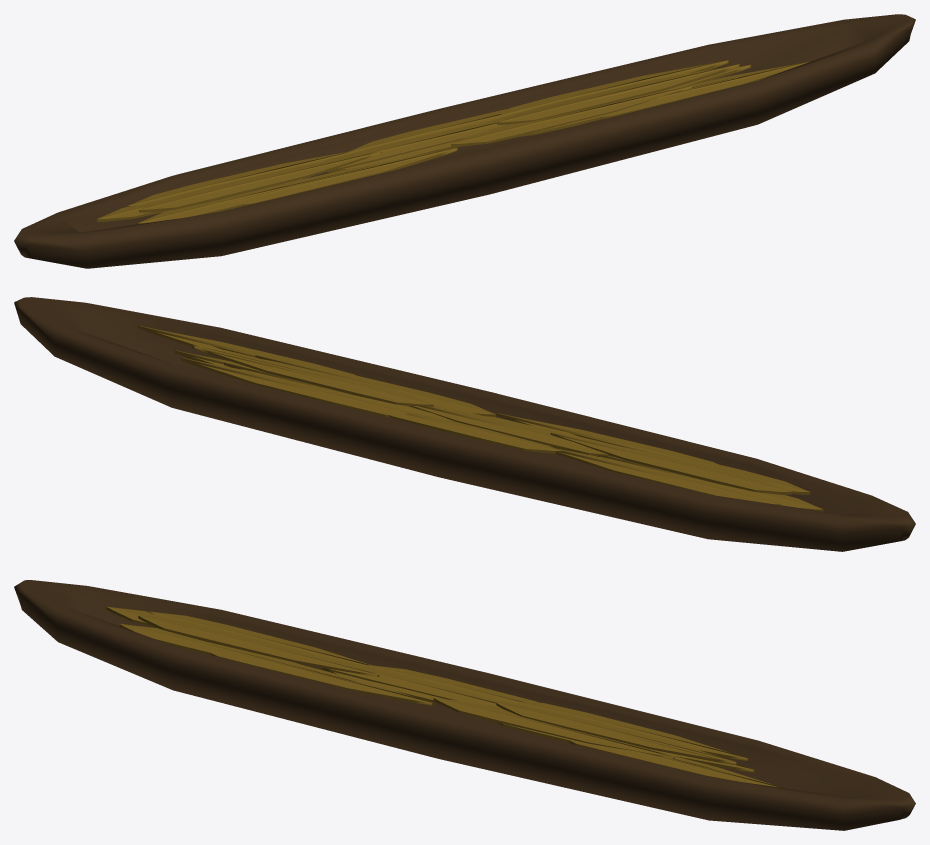
File: marche3.gltf
The picture shows the model from 3 angles, top to bottom: view 1: azimuth 30°, elevation 25°; view 2: azimuth 150°, elevation 25°; view 3: azimuth 330°, elevation 25°; orthographic projection.
Visible parts, largest first — view 1: Cube.066; view 2: Cube.066; view 3: Cube.066.
Boxes of the visible parts, x1,y1,x2,y2 form: Cube.066: (14, 14, 915, 268); Cube.066: (14, 297, 915, 551); Cube.066: (14, 580, 915, 830).
Size of the model in its own units: 8.07 by 0.4815 by 0.849.
